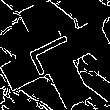L_NE: (26, 30, 84, 80)
